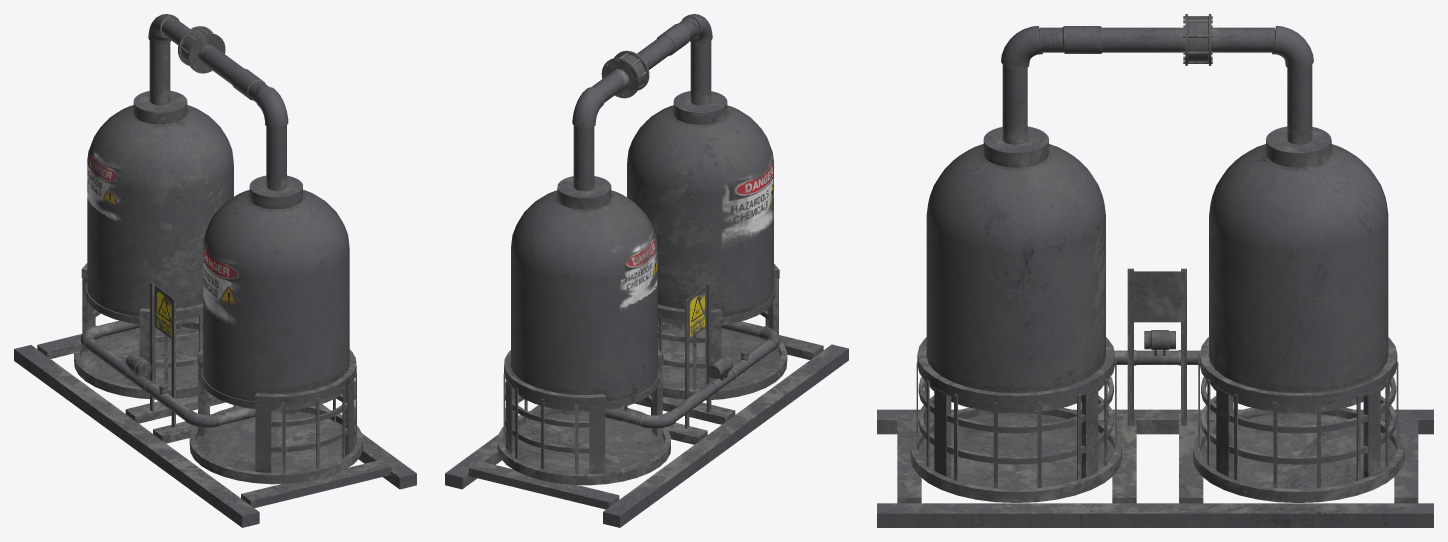
Rendered from chemical tank.fbx.
3 views of the same model, side by side, from view 1: azimuth 30°, elevation 25°; view 2: azimuth 150°, elevation 25°; view 3: azimuth 270°, elevation 25° (orthographic). The views are drawn at different scales.
Parts seen in each view (by area): view 1: Cylinder; view 2: Cylinder; view 3: Cylinder.
Part boxes in pixels (x1=…): Cylinder: x1=14, y1=14, x2=416, y2=527; Cylinder: x1=445, y1=14, x2=848, y2=527; Cylinder: x1=877, y1=14, x2=1433, y2=527.
Bounding box in the file's own units: 274 × 569 × 622.
